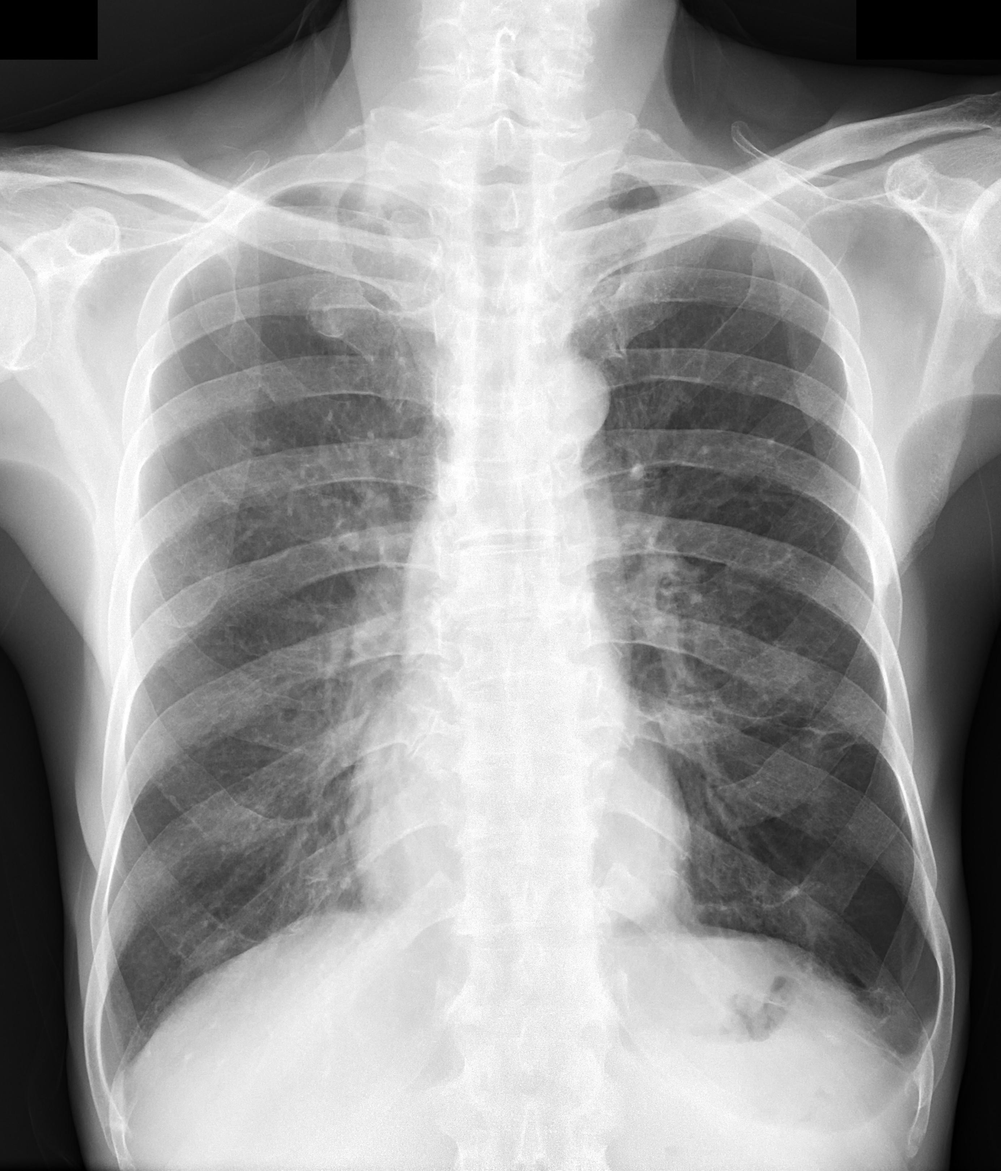Pleural thickening: (872, 1008, 939, 1080), (85, 1032, 137, 1103)
Pulmonary fibrosis: (719, 701, 865, 750)
